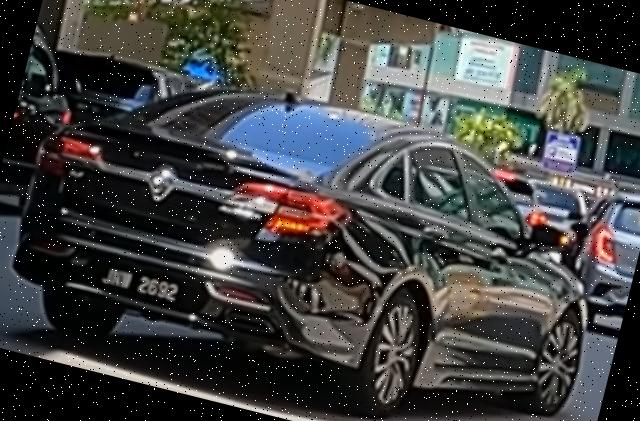License_Plate: (95, 263, 185, 308)
car: (1, 34, 629, 421)
